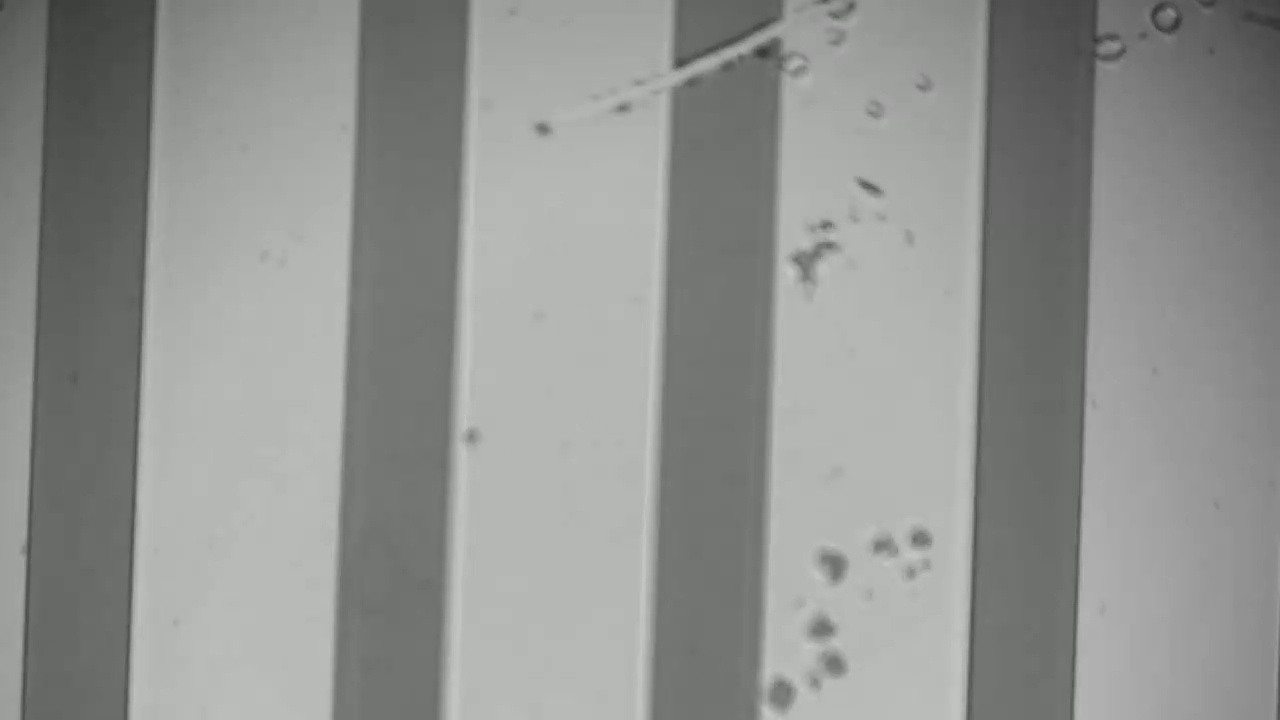Short_circuit: (644, 1, 809, 122)
